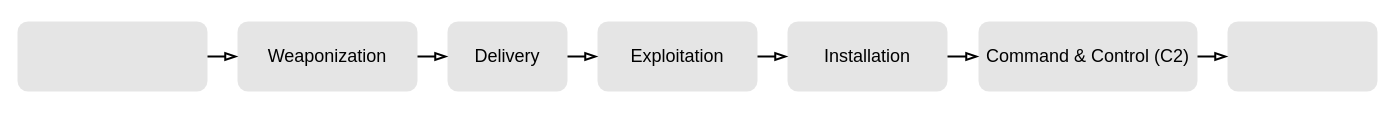
The diagram is 1394 pixels wide and 113 high, and some of its shapes have lost their labels. Each missing label, with the centre of its shape:
"Actions on Objectives" belongs at point 1302,56.
"Reconnaissance" belongs at point 112,56.
